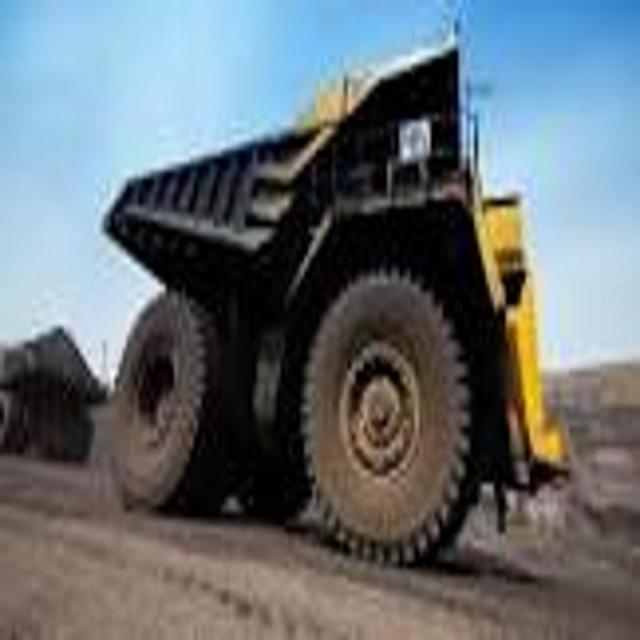dump_truck: (98, 10, 574, 575)
